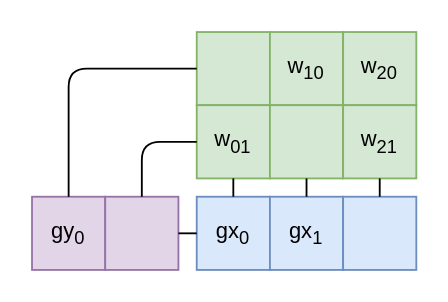
Image size: 448x302. Some labels were removed from this diagram. Each missing label, with the centre of its shape:
gx 2: point (378, 232)
gy 1: point (140, 232)
w 00: point (232, 67)
w 11: point (305, 140)
